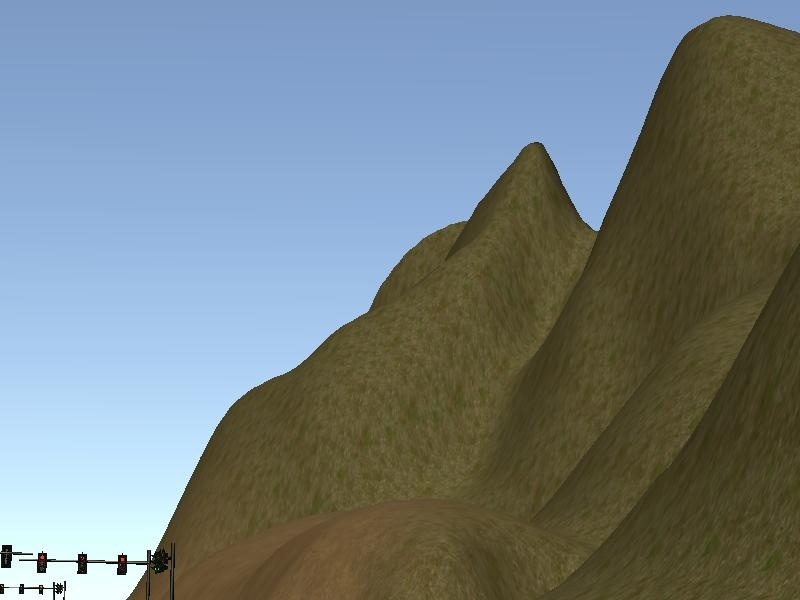traffic_light_red: (21, 552, 147, 575)
